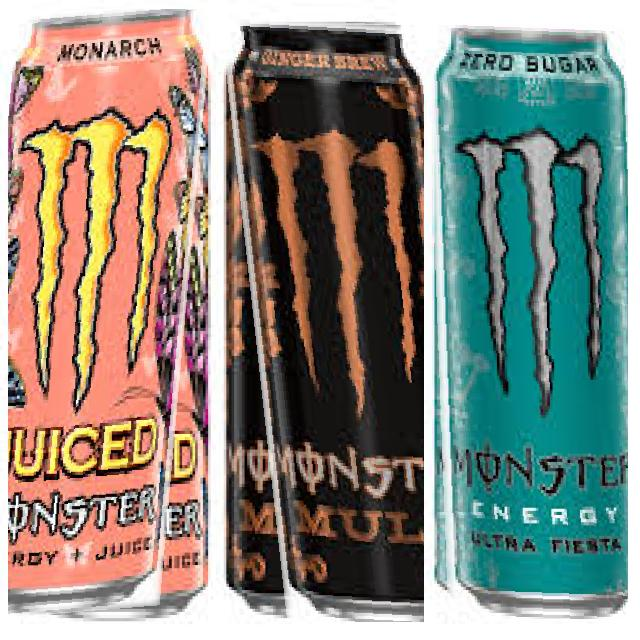Cans: (8, 9, 214, 622), (220, 16, 424, 622), (426, 13, 628, 620)
